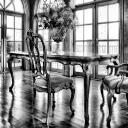chair_success: (18, 20, 78, 128)
